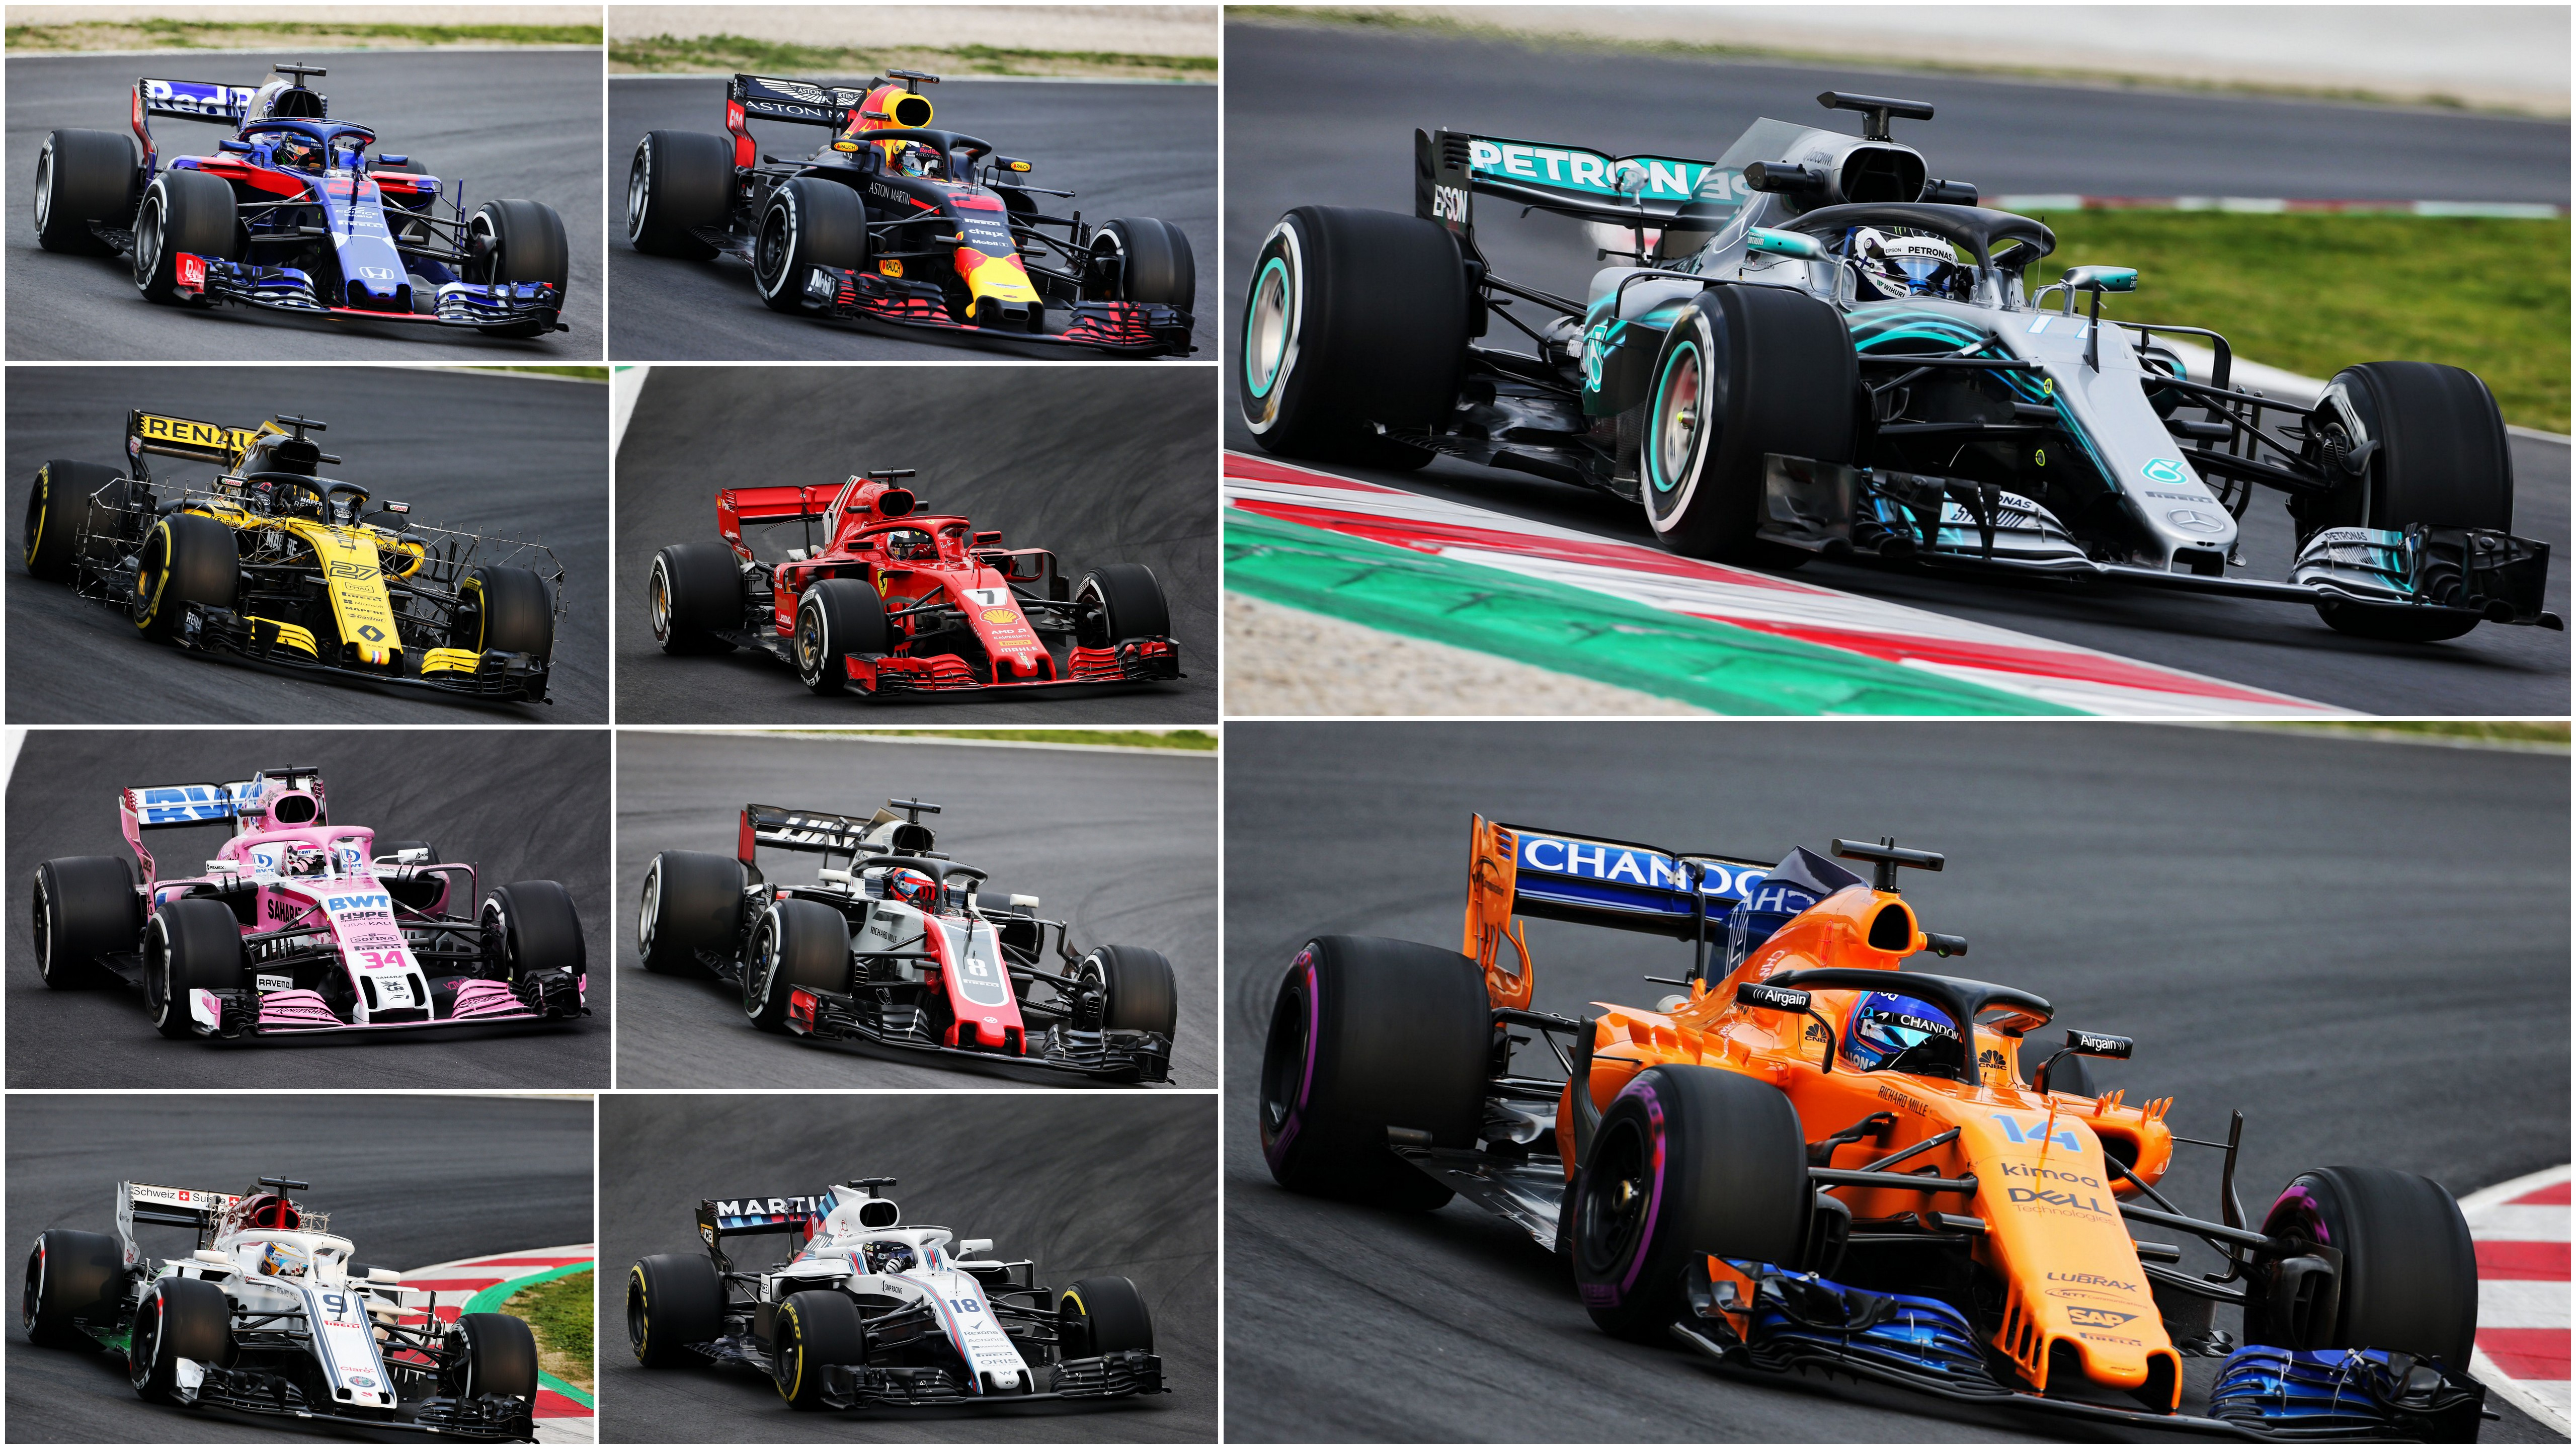f1_car: (1238, 789, 2514, 1449), (1233, 71, 2564, 672), (9, 386, 594, 709), (19, 757, 603, 1070), (619, 57, 1210, 349), (19, 46, 586, 350), (637, 786, 1191, 1088), (626, 439, 1201, 715), (617, 1154, 1184, 1426), (18, 1157, 559, 1440)
helmet: (1835, 962, 1992, 1104), (1838, 196, 1982, 338), (872, 849, 947, 925), (262, 117, 333, 177), (883, 133, 954, 191), (280, 833, 343, 883), (260, 1238, 311, 1283)
